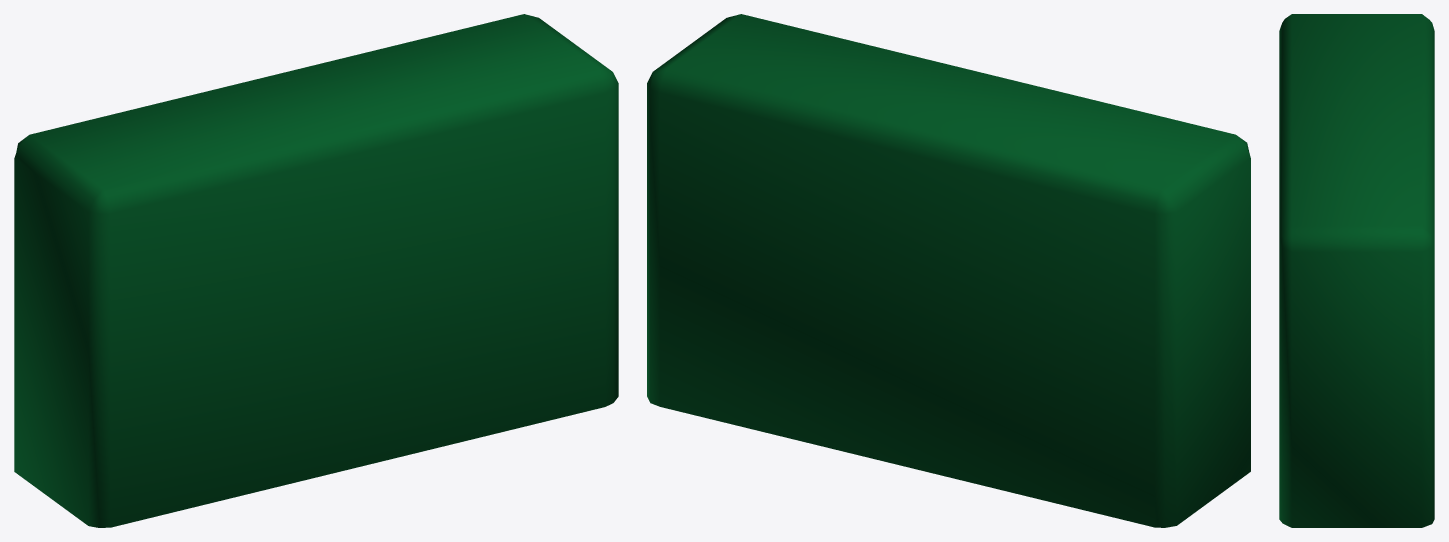
File: Seto01.fbx
3 views of the same model, side by side, from view 1: azimuth 30°, elevation 25°; view 2: azimuth 150°, elevation 25°; view 3: azimuth 270°, elevation 25° (orthographic). The views are drawn at different scales.
Parts seen in each view (by area): view 1: Cube; view 2: Cube; view 3: Cube.
Boxes of the visible parts, x1,y1,x2,y2 form: Cube: (14, 14, 618, 527); Cube: (647, 14, 1250, 527); Cube: (1279, 14, 1434, 527).
Size of the model in its own units: 988 by 594 by 286.
